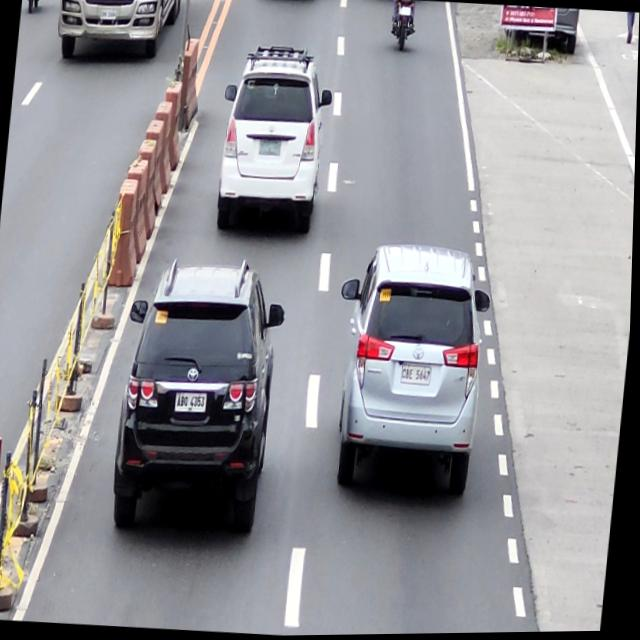Car: (111, 258, 289, 541), (325, 237, 497, 498), (214, 44, 336, 237)
License-Plate: (176, 392, 209, 415), (402, 363, 433, 386), (258, 138, 282, 157), (399, 6, 411, 17)
Motorcycle: (388, 0, 417, 52)
